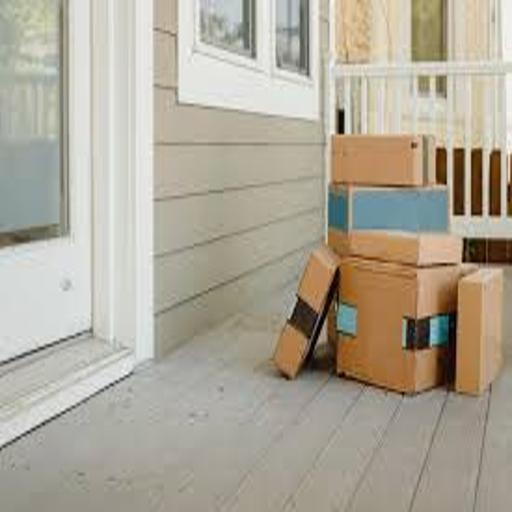Other: (339, 263, 479, 396), (263, 244, 334, 383), (327, 184, 455, 252), (329, 126, 436, 189), (458, 268, 505, 398), (350, 229, 464, 267)
